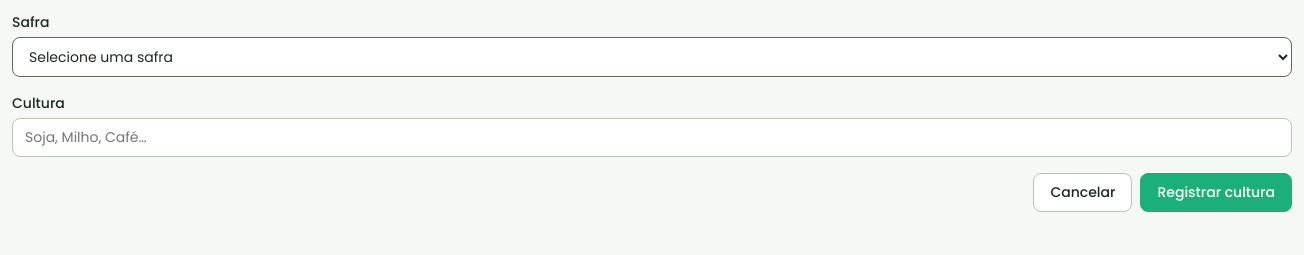
it: CropForm › requires a crop name
Select "2021" in the dropdown labelled "Safra": (652, 57) [12,37,1292,77]
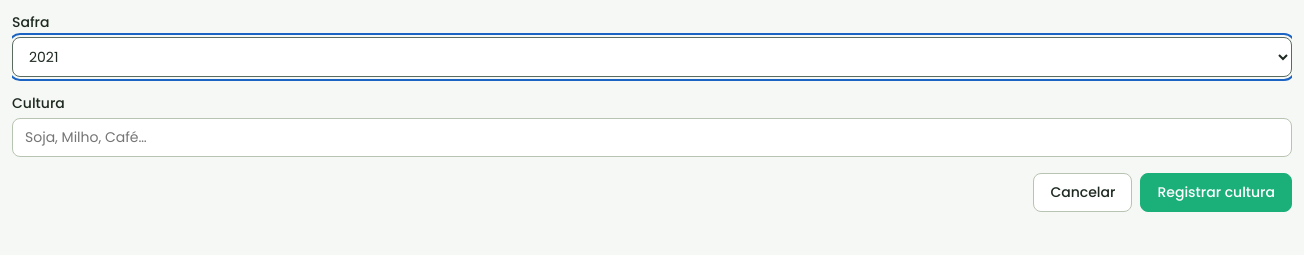
Click the button "Registrar cultura": (1216, 192) [1140,173,1292,212]
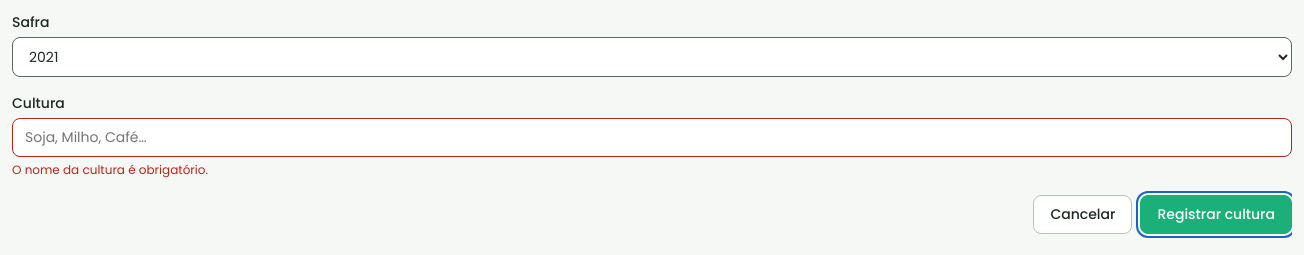
Expected: the text "O nome da cultura é obrigatório." is shown, [12,161,208,178]
